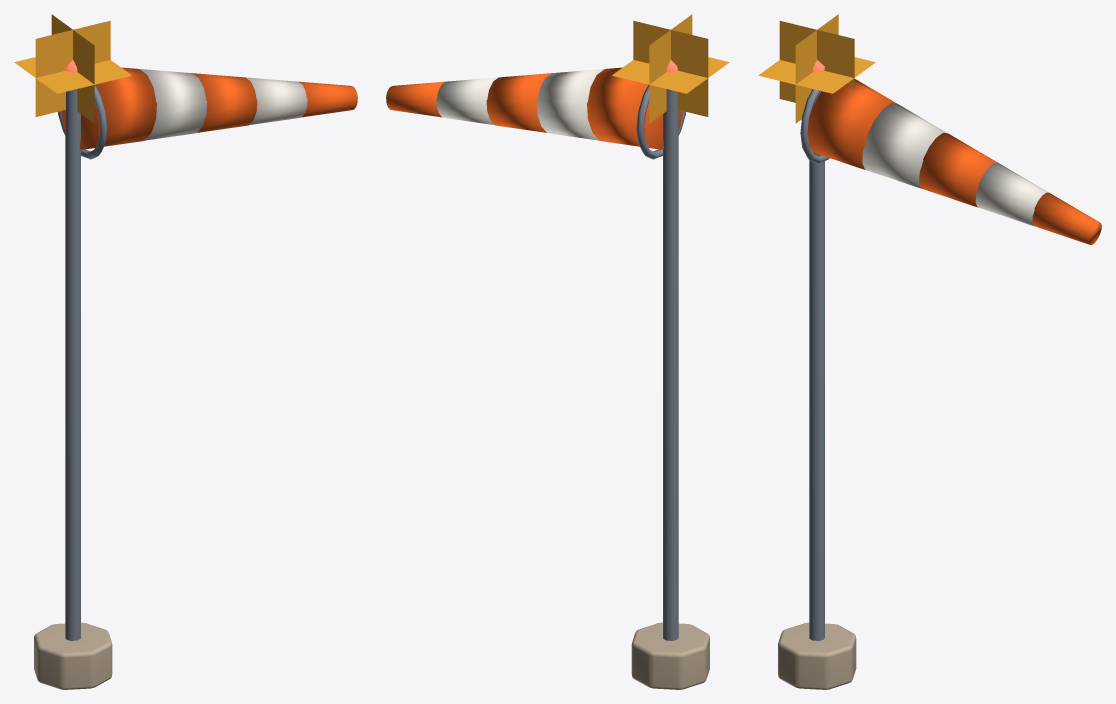
The model's file is dune_windsock.glb.
The picture shows the model from 3 angles, left to right: view 1: azimuth 30°, elevation 25°; view 2: azimuth 150°, elevation 25°; view 3: azimuth 330°, elevation 25°; orthographic projection.
Parts seen in each view (by area): view 1: Windsock; view 2: Windsock; view 3: Windsock.
Boxes of the visible parts, box(x1,y1,x2,y2) form: Windsock: box(14, 14, 357, 689); Windsock: box(386, 14, 729, 689); Windsock: box(758, 14, 1101, 689).
Size of the model in its own units: 3.57 by 6.92 by 0.92.
